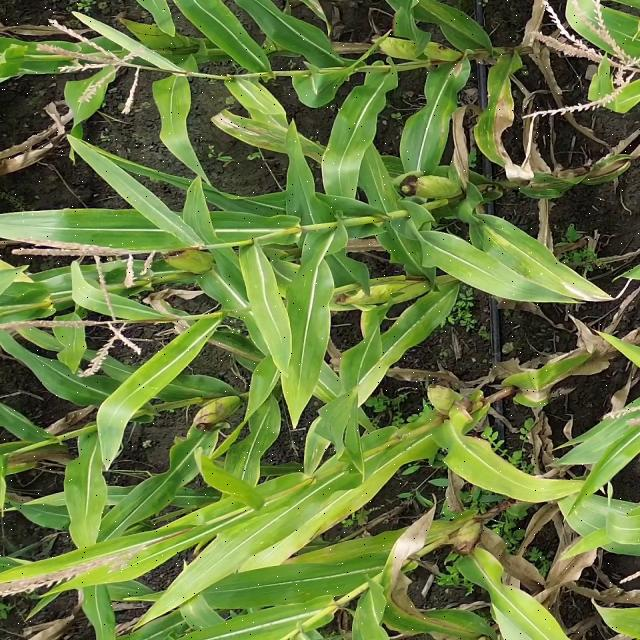gray-leaf-spot: (219, 107, 338, 169), (476, 89, 526, 188)
northern-leaf-blight: (390, 516, 482, 640)
southern-leaf-blight: (474, 217, 574, 305), (241, 504, 328, 558)
